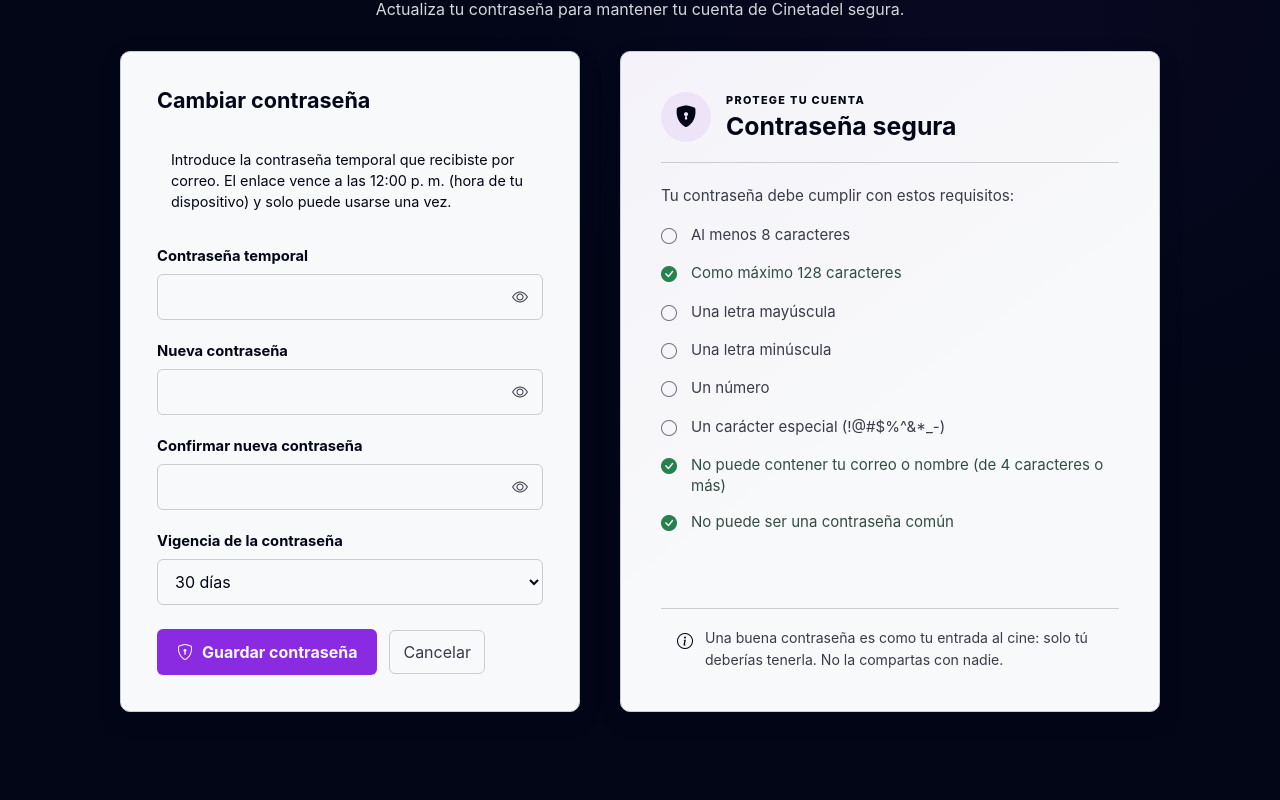
Test: ChangePasswordView.vue › requires the temporary password and matching new passwords before submitting
(page scrolled)
Submit the form, box [157,244,543,675]
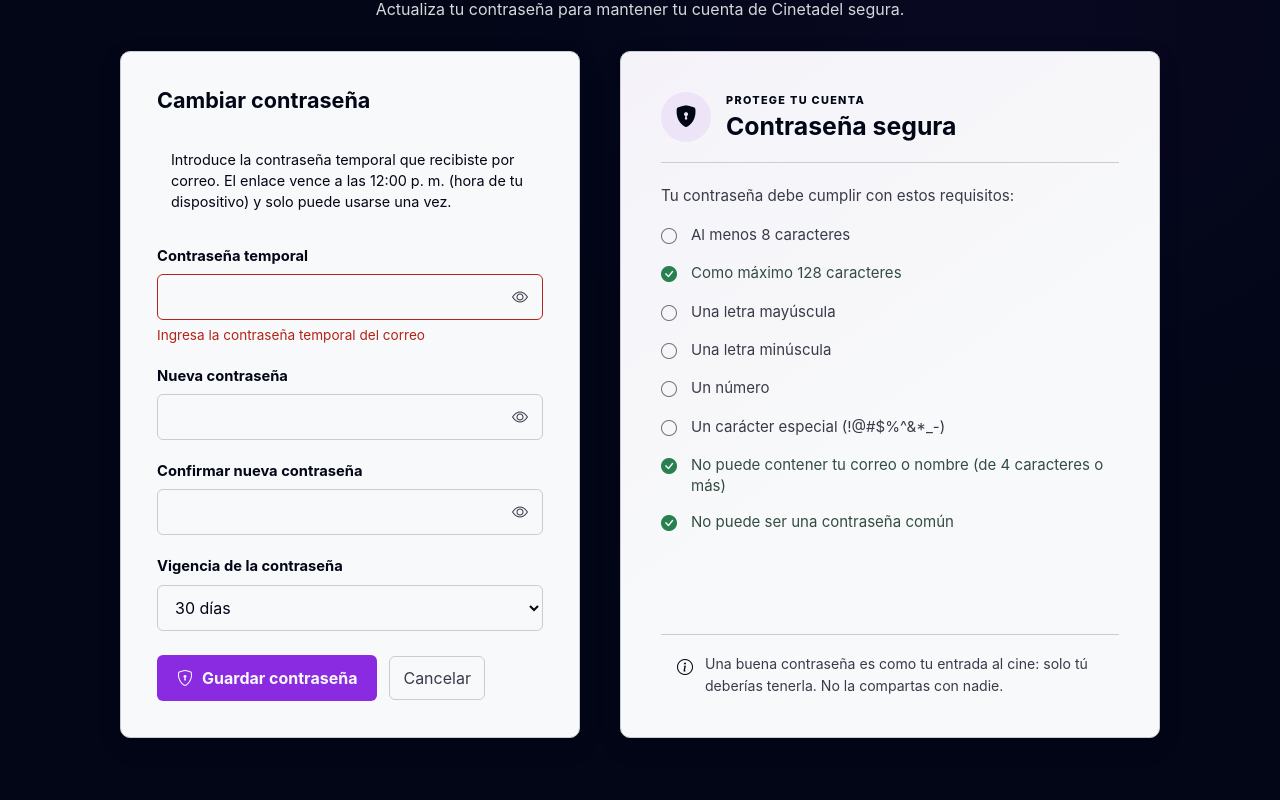
Now the text "Ingresa la contraseña temporal del correo" is shown, box [157,327,425,343]
Type "temporary" into the password field with id "currentPassword".
click(350, 297); type("temporary")  # box [157,274,543,320]
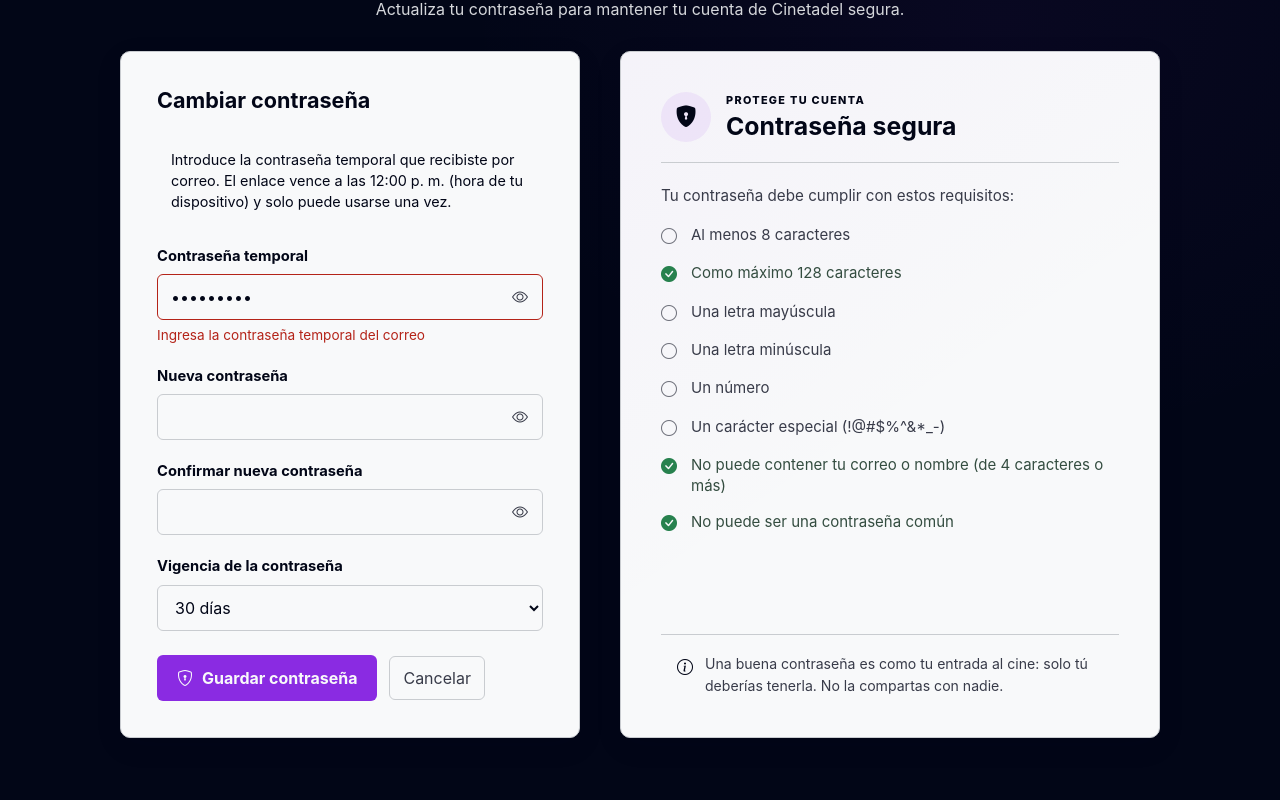
Type "NewSecret123!" into the password field with id "newPassword".
click(350, 417); type("NewSecret123!")  # box [157,394,543,440]
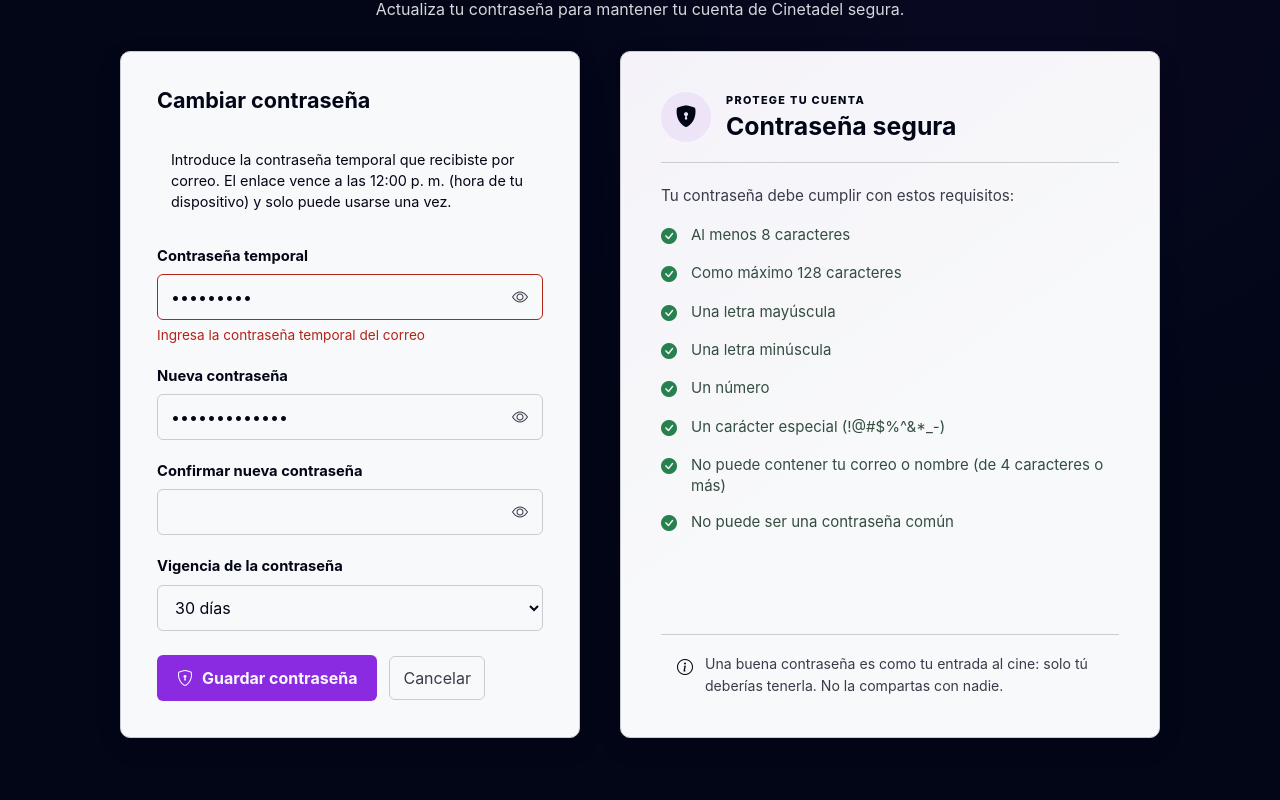
Type "OtherSecret123!" into the password field with id "confirmNewPassword".
click(350, 512); type("OtherSecret123!")  # box [157,490,543,536]
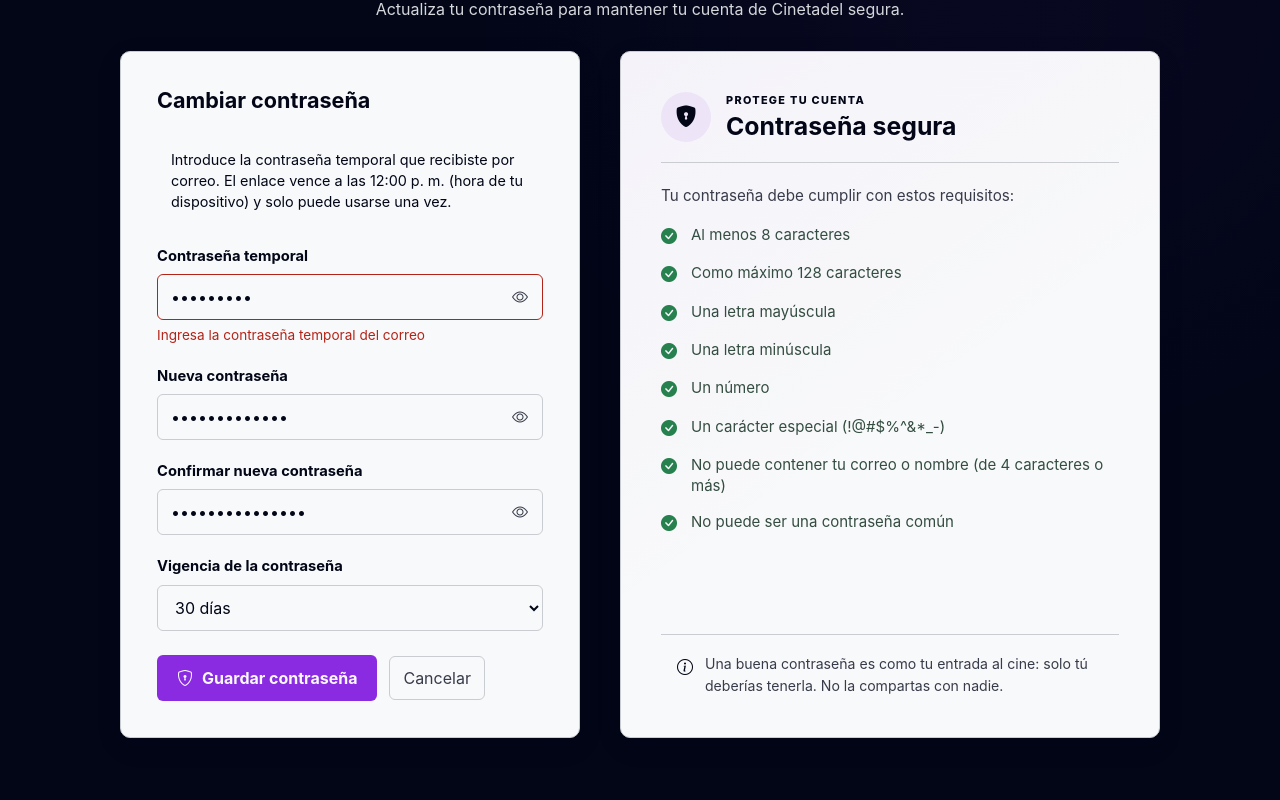
Submit the form, box [157,244,543,700]
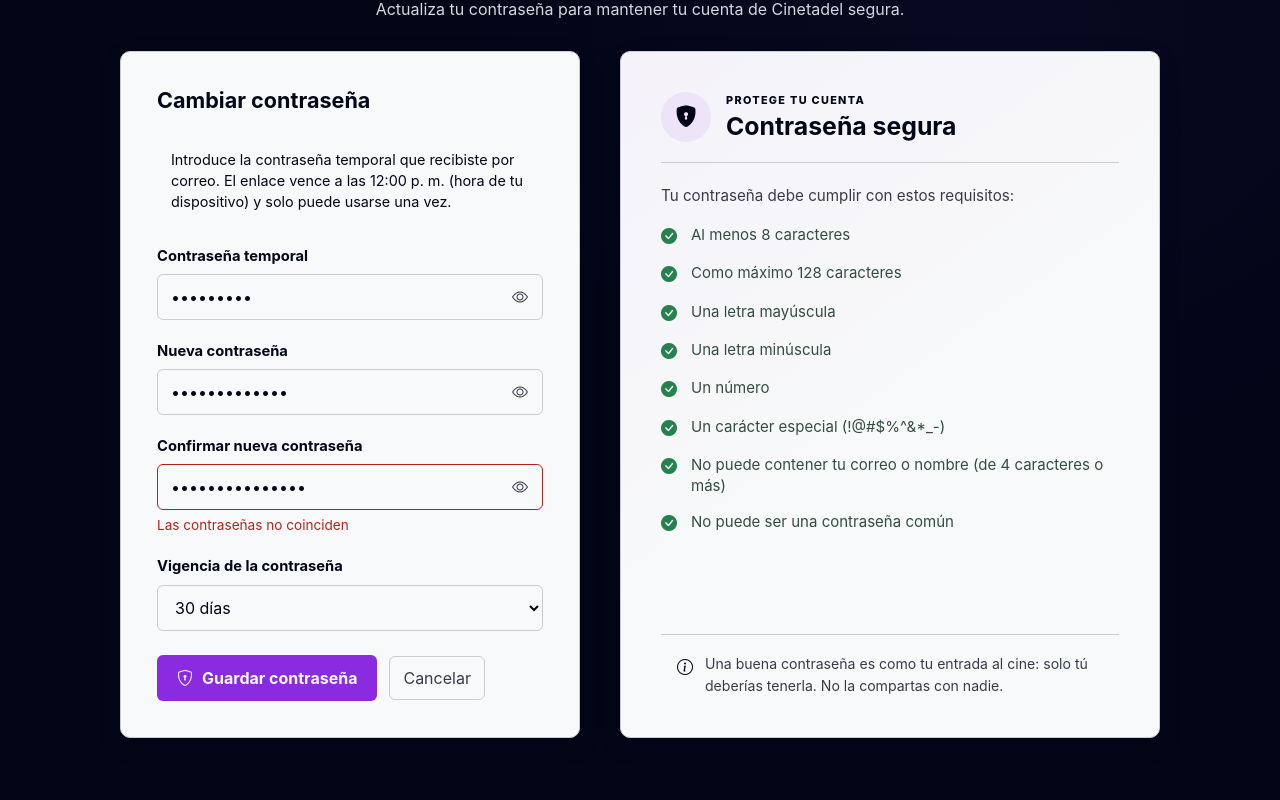
Now the text "Las contraseñas no coinciden" is shown, box [157,517,349,533]
